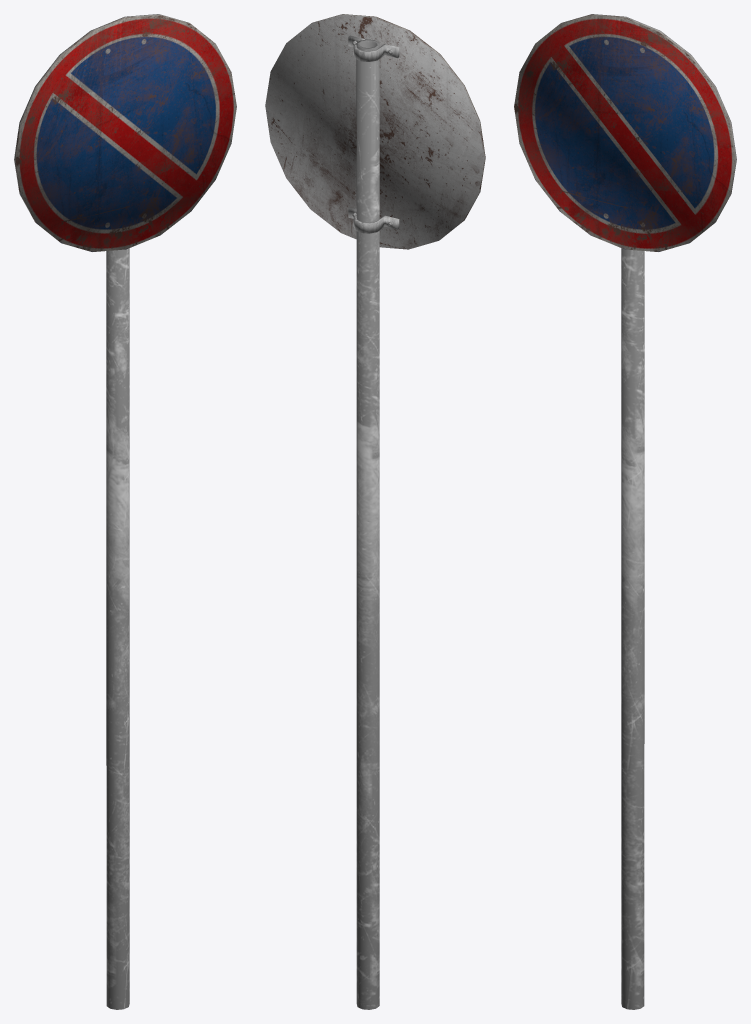
File: Traffic_sign_1.glb
3 renders of one model, left to right at view 1: azimuth 30°, elevation 25°; view 2: azimuth 150°, elevation 25°; view 3: azimuth 330°, elevation 25°, orthographic.
Parts seen in each view (by area): view 1: no_waiting_Sign_Circle_0, no_waiting_Sign_Pole4_0; view 2: no_waiting_Sign_Circle_0, no_waiting_Sign_Pole4_0, no_waiting_Sign_Support4_0; view 3: no_waiting_Sign_Circle_0, no_waiting_Sign_Pole4_0.
Part boxes in pixels (bbox=[...]): no_waiting_Sign_Circle_0: bbox=[14, 14, 236, 251]; no_waiting_Sign_Pole4_0: bbox=[106, 248, 129, 1009]; no_waiting_Sign_Circle_0: bbox=[265, 14, 485, 249]; no_waiting_Sign_Pole4_0: bbox=[356, 39, 379, 1009]; no_waiting_Sign_Support4_0: bbox=[348, 35, 399, 233]; no_waiting_Sign_Circle_0: bbox=[514, 14, 736, 251]; no_waiting_Sign_Pole4_0: bbox=[621, 248, 644, 1009].
Bounding box in the file's own units: 1.41 × 6.04 × 0.1749.
4 materials, 4 textured.
